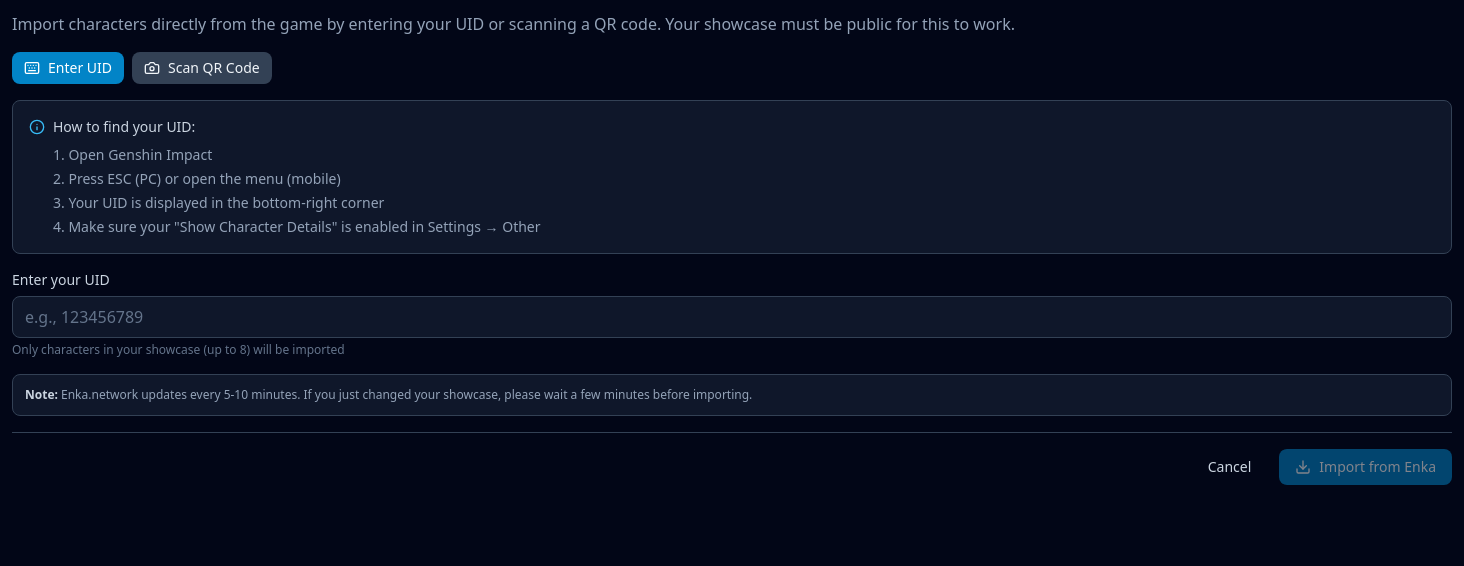
EnkaImport › shows API errors returned from fetchEnkaData
In the field labelled "Enter your UID": x=732, y=317 [12,296,1452,338], type "123456789"
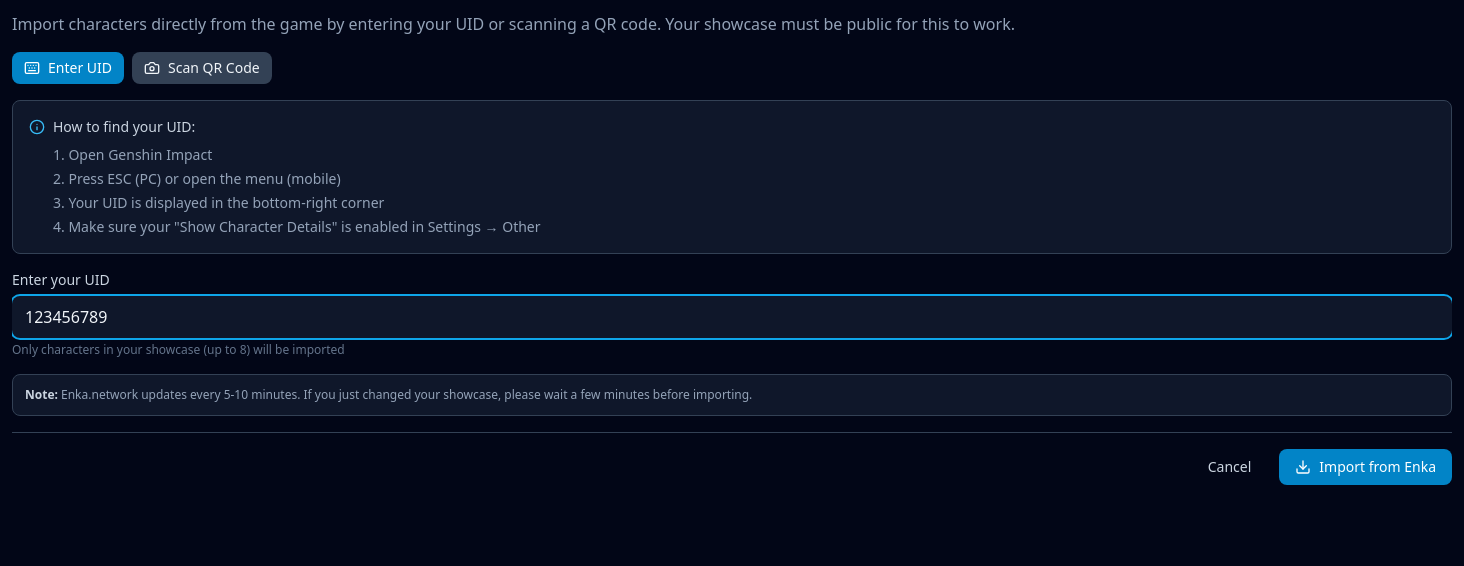
Click the button "Import from Enka": x=1366, y=467 [1279,449,1452,485]
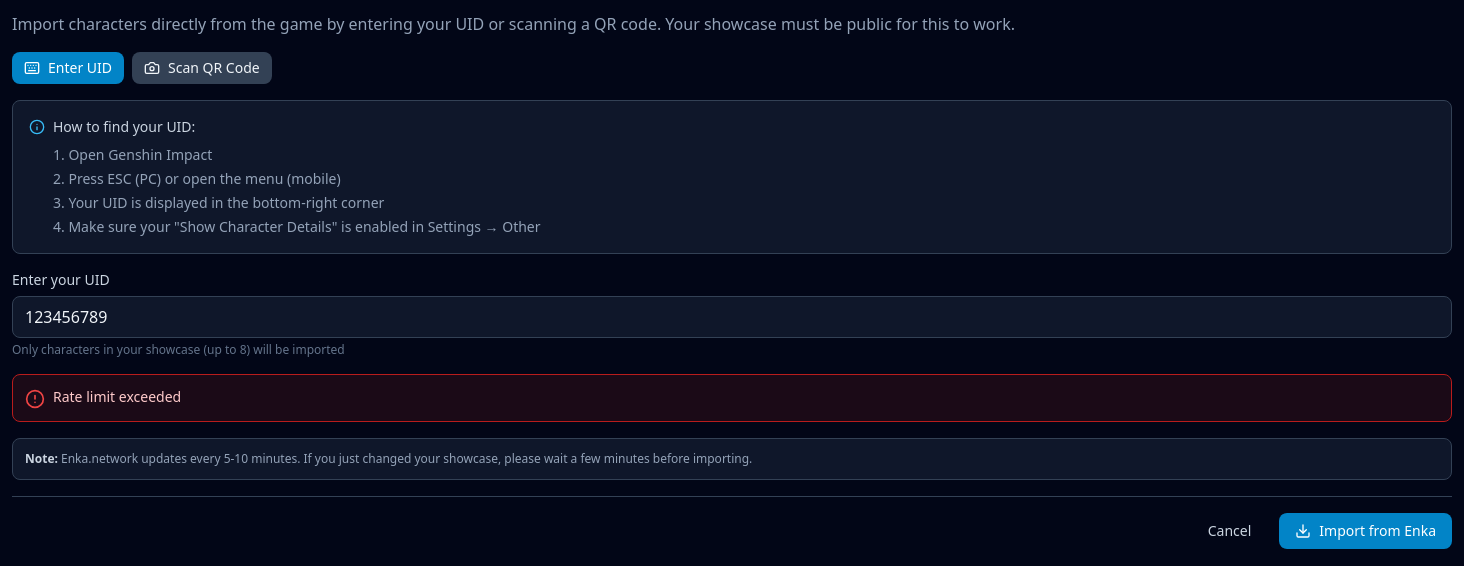
Now the text "Rate limit exceeded" is shown, box [53,387,181,407]
